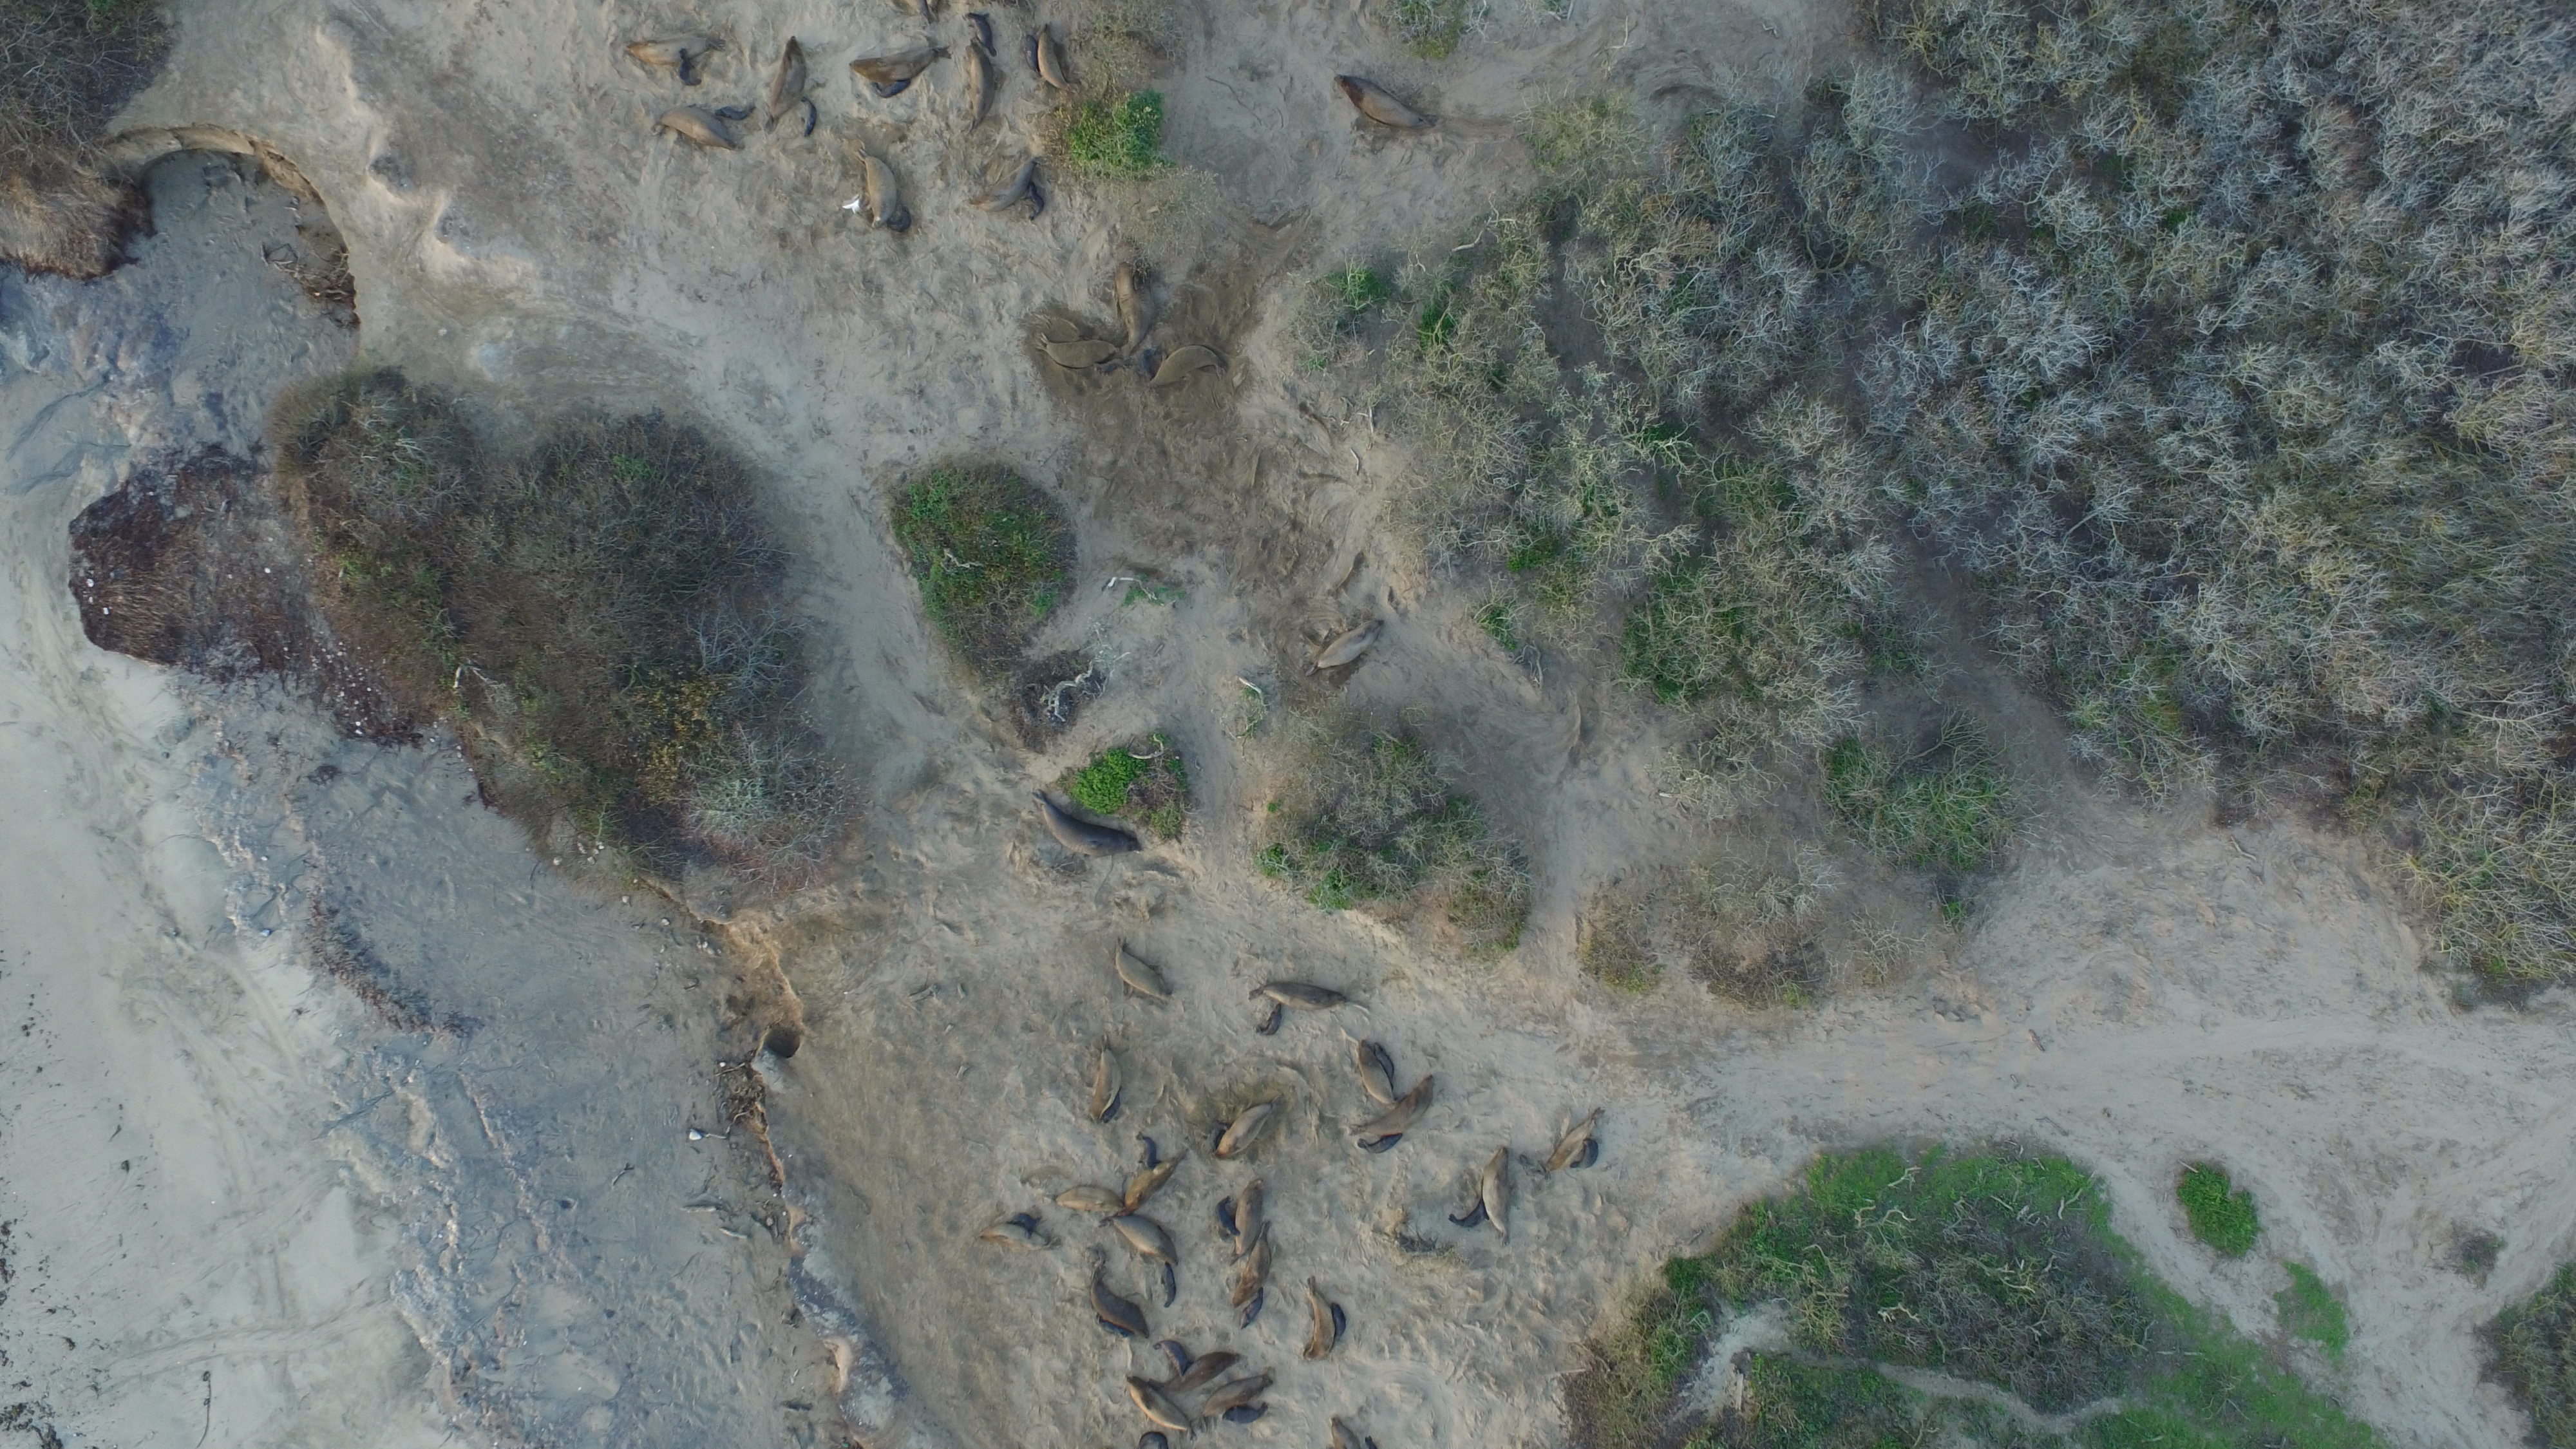adult male: (1024, 786, 1150, 867), (1325, 71, 1444, 143), (1104, 253, 1161, 363)
male juvenile / female juvenile / adult female: (1104, 246, 1161, 361), (1079, 1267, 1157, 1346), (1116, 1373, 1201, 1444), (957, 159, 1047, 219), (1141, 343, 1238, 398), (1537, 1109, 1608, 1184), (1470, 1145, 1522, 1244), (1309, 616, 1389, 679), (1106, 1152, 1185, 1215), (1362, 1076, 1442, 1138), (1111, 941, 1182, 1010), (1099, 1212, 1187, 1267), (649, 104, 743, 156), (847, 149, 902, 234), (1031, 23, 1086, 108), (844, 42, 954, 85), (1210, 1100, 1283, 1164), (764, 34, 809, 131), (619, 30, 729, 67), (959, 41, 1003, 133), (1240, 980, 1357, 1014), (1297, 1274, 1338, 1368), (1352, 1037, 1403, 1111), (1191, 1373, 1276, 1417), (1031, 334, 1120, 375), (1083, 1033, 1120, 1122), (1044, 1184, 1132, 1221), (1166, 1350, 1246, 1391), (1230, 1177, 1267, 1261), (1244, 1217, 1277, 1295), (1322, 1414, 1376, 1449)
pup: (957, 14, 1003, 58), (1445, 1194, 1495, 1235), (1208, 1192, 1246, 1244), (1150, 1339, 1196, 1380), (1235, 1283, 1270, 1332), (1251, 1001, 1290, 1046), (1369, 1040, 1405, 1088), (669, 53, 709, 94), (794, 96, 826, 147), (1019, 32, 1051, 83), (1569, 1134, 1605, 1177), (1155, 1260, 1184, 1311), (1090, 1315, 1139, 1343), (1217, 1405, 1274, 1430), (1355, 1131, 1405, 1159), (867, 74, 915, 103), (1325, 1300, 1353, 1346), (1007, 1208, 1047, 1240), (1023, 179, 1049, 226), (886, 203, 918, 239), (1201, 1118, 1228, 1161), (1131, 1132, 1161, 1169), (708, 106, 763, 124), (1132, 1428, 1177, 1449), (1100, 1086, 1123, 1125)
